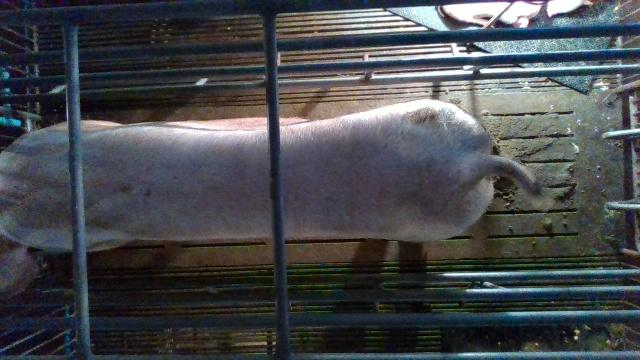sow-stand-feed: (0, 99, 541, 300)
